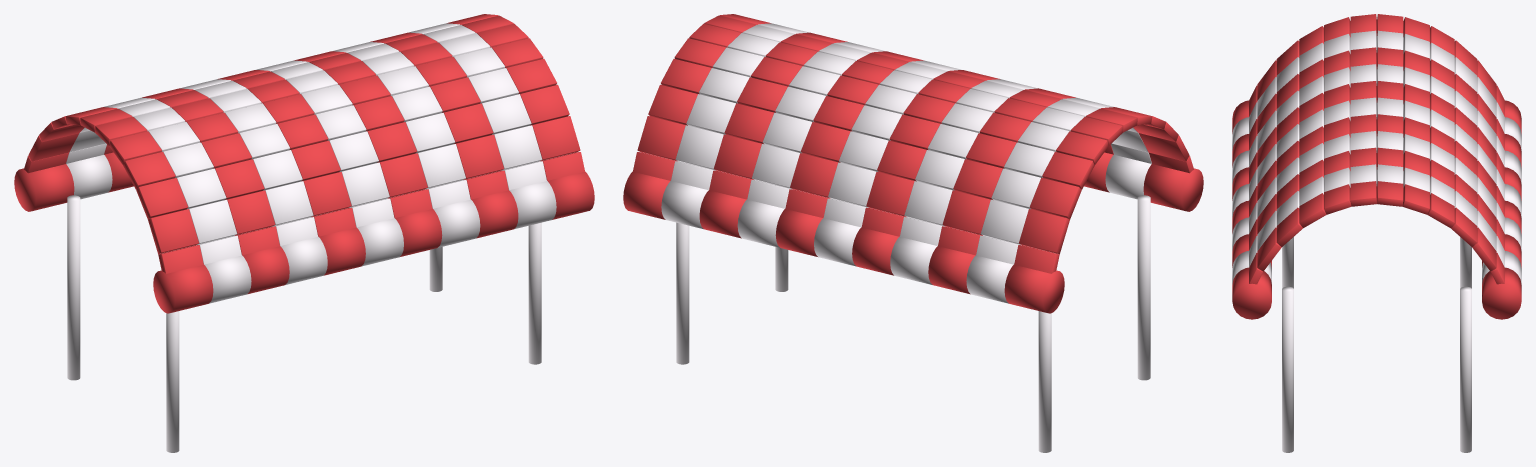
Rendered from Prop_FoodCartProc_AI.glb.
3 renders of one model, left to right at view 1: azimuth 30°, elevation 25°; view 2: azimuth 150°, elevation 25°; view 3: azimuth 270°, elevation 25°, orthographic. The views are drawn at different scales.
Visible parts, largest first — view 1: Prop_FoodCartProc_AI; view 2: Prop_FoodCartProc_AI; view 3: Prop_FoodCartProc_AI.
Boxes of the visible parts, x1,y1,x2,y2 form: Prop_FoodCartProc_AI: (14, 14, 594, 452); Prop_FoodCartProc_AI: (623, 14, 1203, 452); Prop_FoodCartProc_AI: (1232, 14, 1521, 452).
Size of the model in its own units: 2.46 by 1.66 by 1.64.
